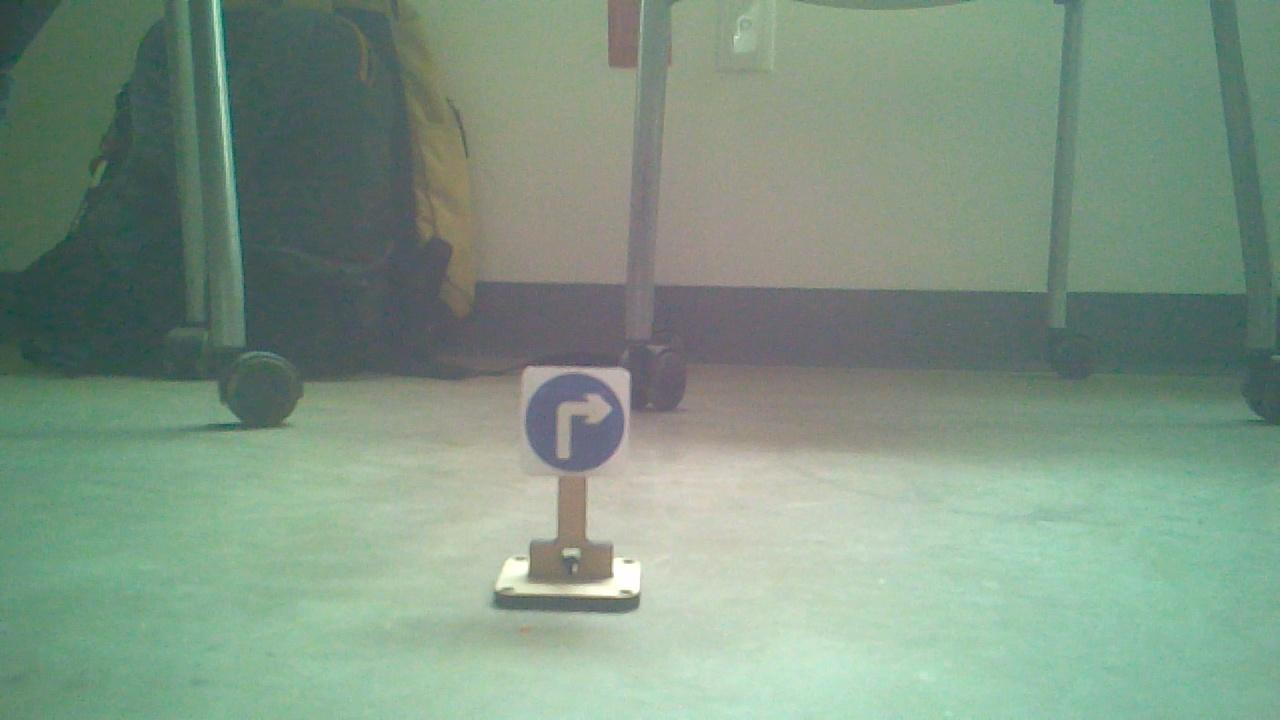turn: (521, 366, 627, 475)
